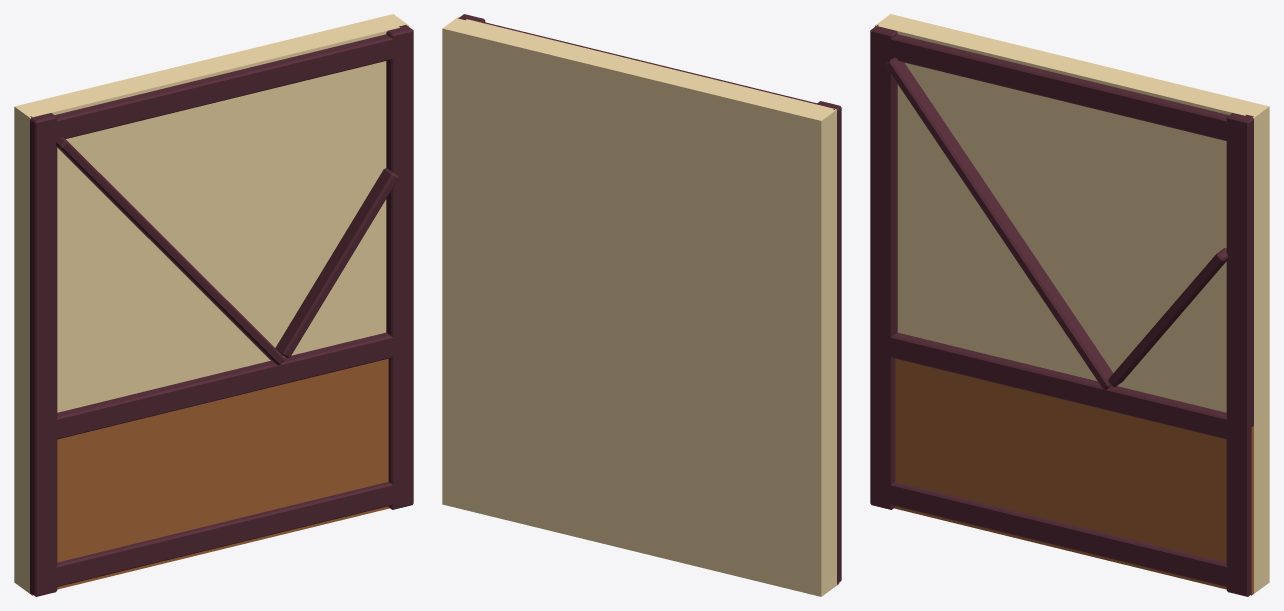
The model's file is wall_interior.glb.
3 views of the same model, side by side, from view 1: azimuth 30°, elevation 25°; view 2: azimuth 150°, elevation 25°; view 3: azimuth 330°, elevation 25° (orthographic).
Visible parts, largest first — view 1: Reboco, Diagonal, Lambril; view 2: Reboco, Diagonal; view 3: Reboco, Diagonal, Lambril.
Boxes of the visible parts, box(x1,y1,x2,y2) form: Reboco: box(14, 14, 408, 593); Diagonal: box(30, 25, 413, 596); Lambril: box(30, 358, 389, 595); Reboco: box(442, 17, 836, 596); Diagonal: box(458, 14, 841, 583); Reboco: box(875, 14, 1269, 593); Diagonal: box(870, 25, 1253, 596); Lambril: box(894, 358, 1253, 595).
Bounding box in the file's own units: 2.5 × 3 × 0.3039.
